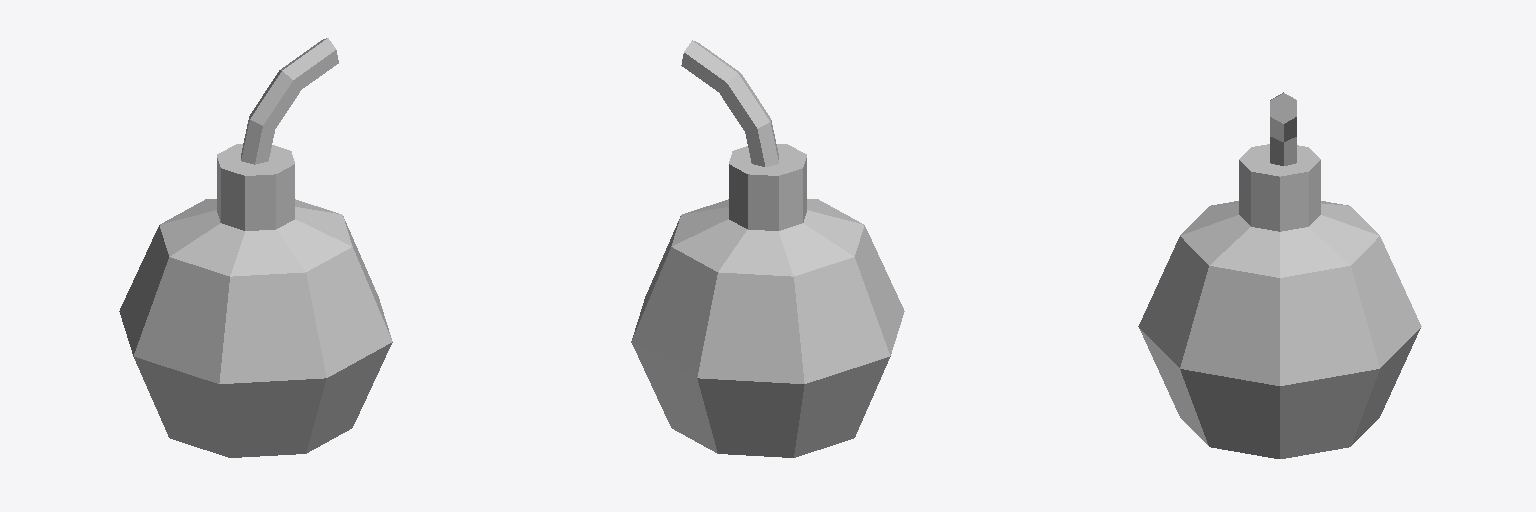
Rendered from SmokeBomb.obj.
The picture shows the model from 3 angles: view 1: azimuth 30°, elevation 25°; view 2: azimuth 150°, elevation 25°; view 3: azimuth 270°, elevation 25°; orthographic projection.
Visible parts, largest first — view 1: SmokeBomb; view 2: SmokeBomb; view 3: SmokeBomb.
Boxes of the visible parts, <box> form: SmokeBomb: <box>119,38,392,457</box>; SmokeBomb: <box>631,40,904,457</box>; SmokeBomb: <box>1138,92,1421,458</box>.
Size of the model in its own units: 0.8236 by 1.28 by 0.8236.